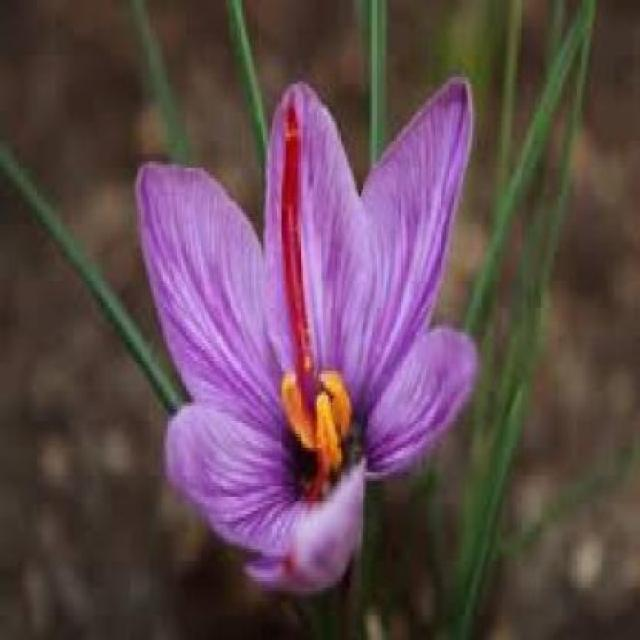Flower: (125, 75, 482, 593)
stigma: (262, 86, 326, 391)
